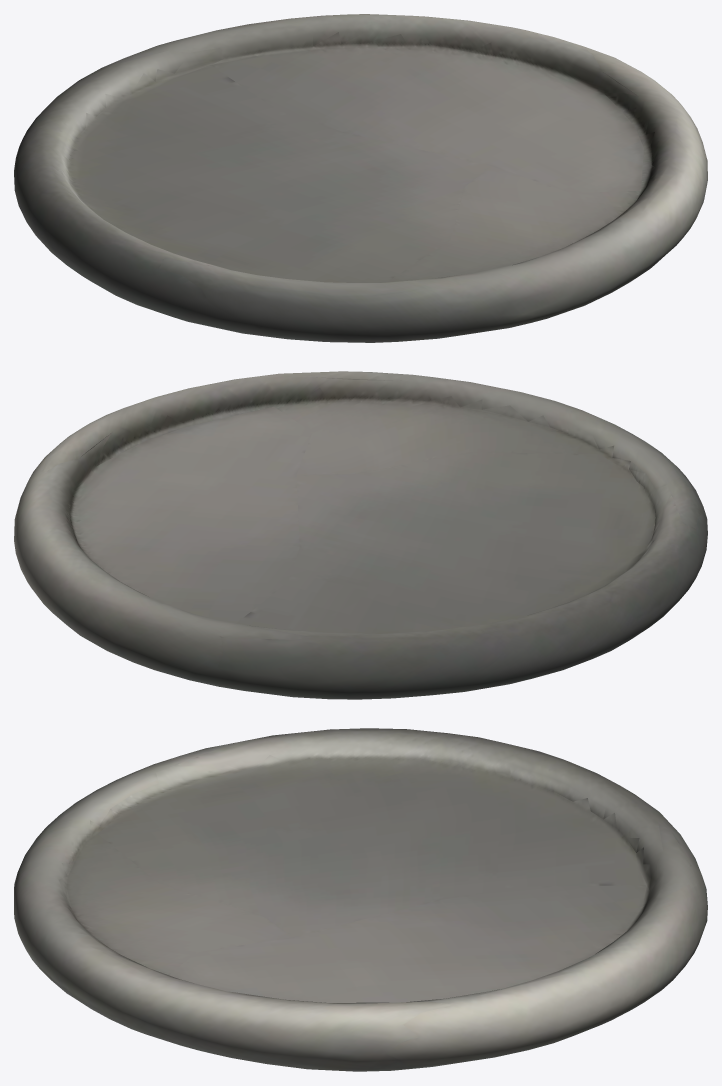
File: m2LandingMat.glb
The picture shows the model from 3 angles, top to bottom: view 1: azimuth 30°, elevation 25°; view 2: azimuth 150°, elevation 25°; view 3: azimuth 270°, elevation 25°; orthographic projection.
Parts seen in each view (by area): view 1: model; view 2: model; view 3: model.
Boxes of the visible parts, left/top/right/bottom form: model: left=14, top=14, right=707, bottom=342; model: left=14, top=371, right=707, bottom=699; model: left=14, top=728, right=707, bottom=1071.
Bounding box in the file's own units: 1.9 × 0.2056 × 1.86.
1 material, 1 textured.
